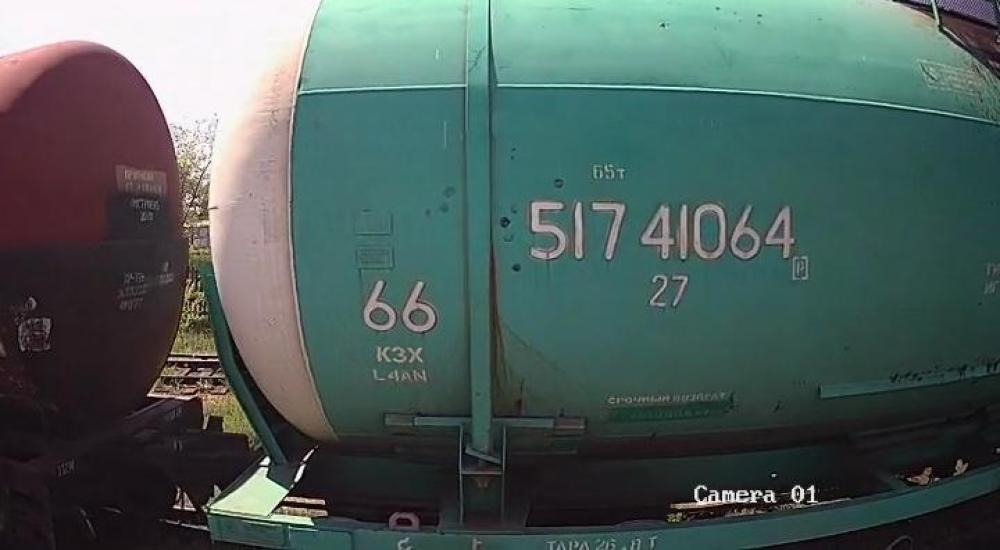Wagon-number: (524, 195, 799, 266)
